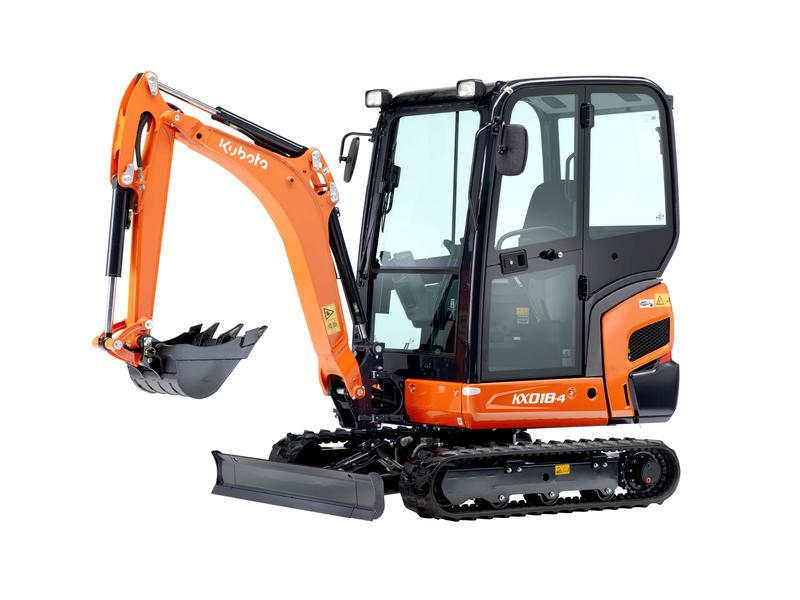shovel: (98, 59, 703, 534)
